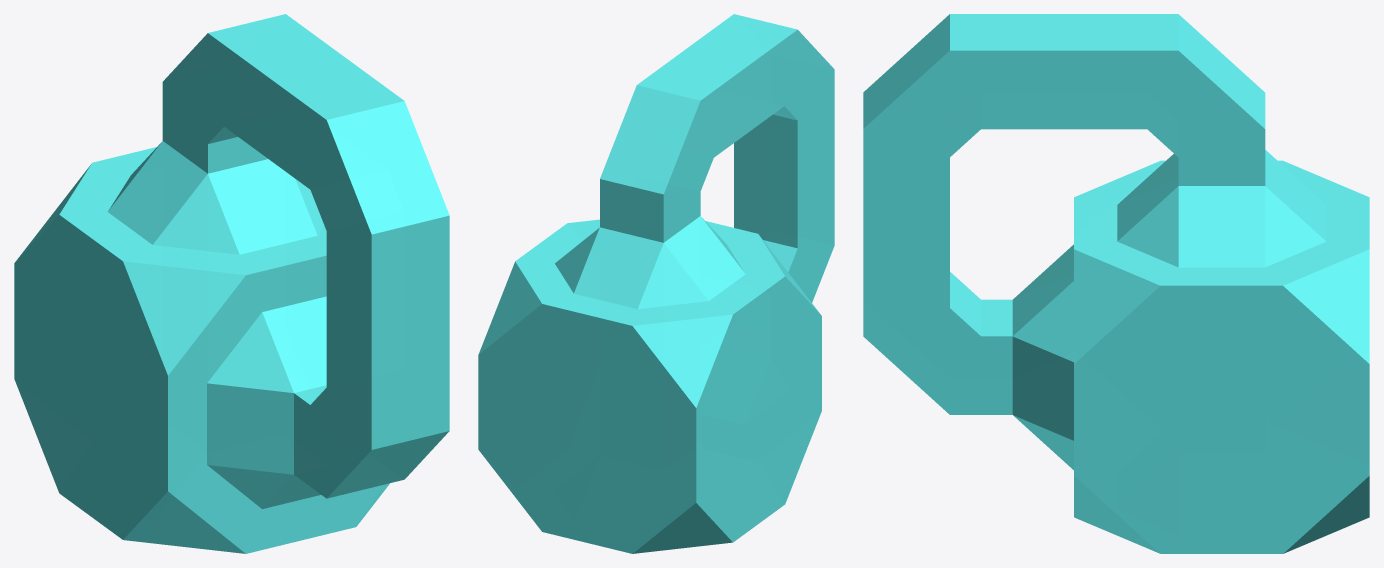
Rendered from TruncatedCube.obj.
The picture shows the model from 3 angles, left to right: view 1: azimuth 30°, elevation 25°; view 2: azimuth 150°, elevation 25°; view 3: azimuth 270°, elevation 25°; orthographic projection. The views are drawn at different scales.
Bounding box in the file's own units: 1.41 × 2.42 × 2.42.
